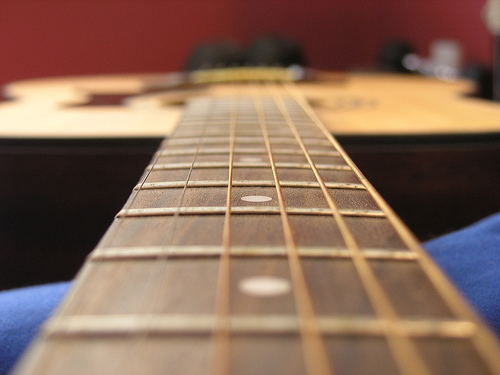guitar: (1, 71, 500, 375)
